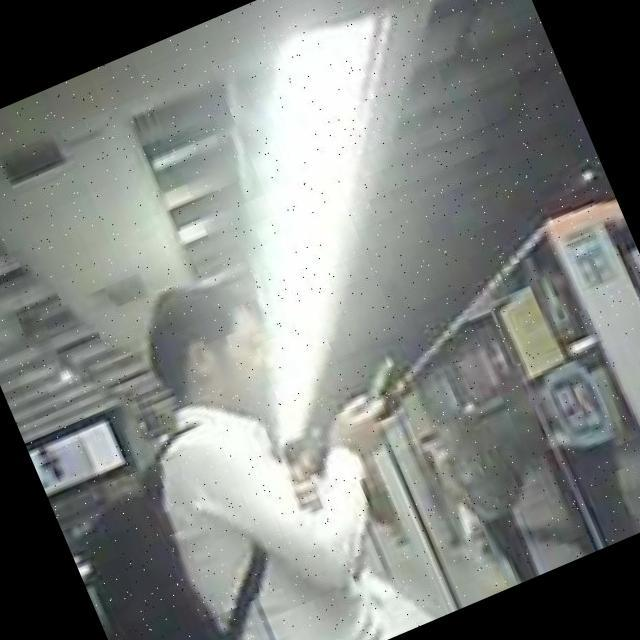person: (70, 232, 459, 640), (418, 397, 556, 596)
